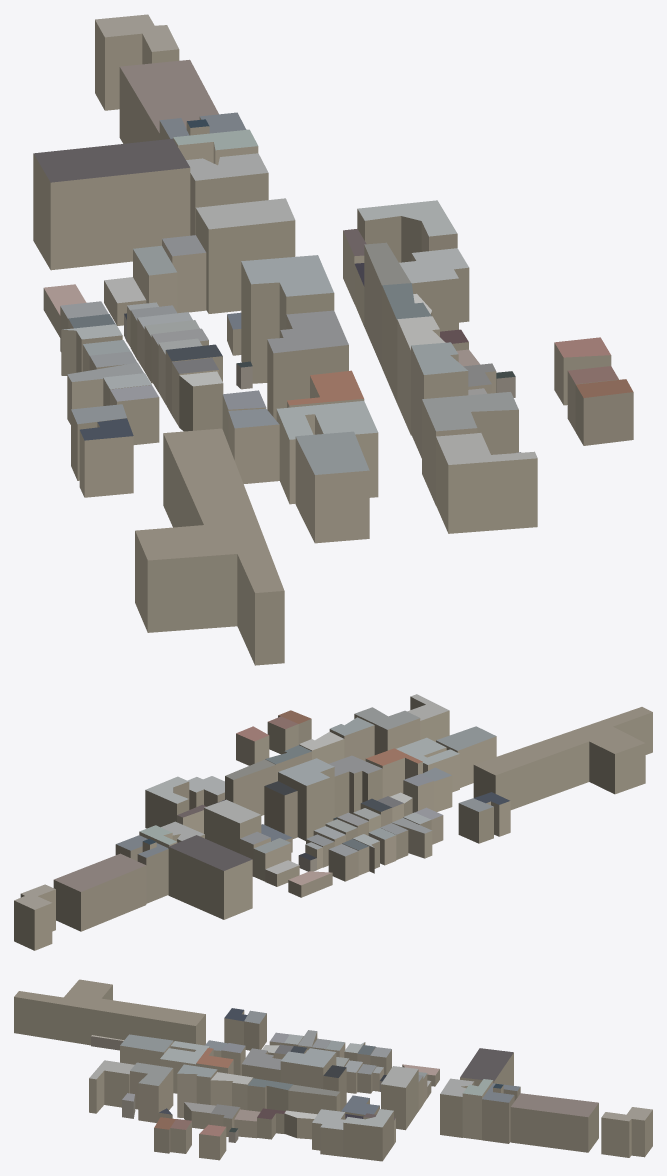
The picture shows the model from 3 angles, top to bottom: view 1: azimuth 30°, elevation 25°; view 2: azimuth 150°, elevation 25°; view 3: azimuth 270°, elevation 25°; orthographic projection. The views are drawn at different scales.
Parts seen in each view (by area): view 1: tuile; view 2: tuile; view 3: tuile.
Part boxes in pixels (box(x1,y1,x2,y2)): tuile: box(33, 14, 633, 665); tuile: box(14, 694, 652, 950); tuile: box(14, 979, 652, 1161).
Bounding box in the file's own units: 143 × 25 × 266.
